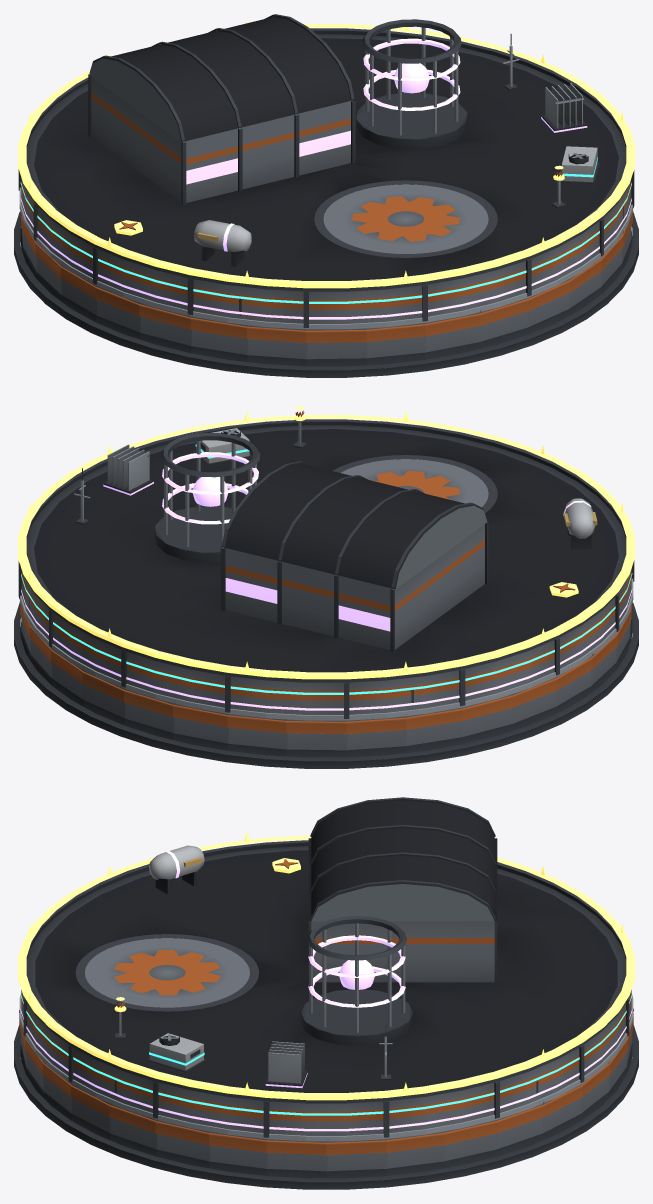
Rendered from metamaterial_foundry_l_far.glb.
3 renders of one model, top to bottom at view 1: azimuth 30°, elevation 25°; view 2: azimuth 150°, elevation 25°; view 3: azimuth 270°, elevation 25°, orthographic.
Visible parts, largest first — view 1: Roof, Base, L5, L4, L2, L3; view 2: Roof, Base, L5, L4, L2, L3; view 3: Roof, Base, L5, L4, L2, L3.
Boxes of the visible parts, <box> form: Roof: <box>18,14,634,327</box>; Base: <box>14,210,638,377</box>; L5: <box>18,20,634,288</box>; L4: <box>20,83,631,319</box>; L2: <box>19,34,633,329</box>; L3: <box>20,146,631,303</box>; Roof: <box>18,419,634,718</box>; Base: <box>14,601,638,768</box>; L5: <box>18,406,634,679</box>; L4: <box>21,444,632,710</box>; L2: <box>19,468,633,720</box>; L3: <box>21,428,632,694</box>; Roof: <box>21,797,631,1137</box>; Base: <box>14,1008,638,1189</box>; L5: <box>18,832,634,1100</box>; L4: <box>20,845,632,1131</box>; L2: <box>19,993,633,1141</box>; L3: <box>20,993,632,1115</box>.
Bounding box in the file's own units: 18.96 × 6.22 × 18.96.
